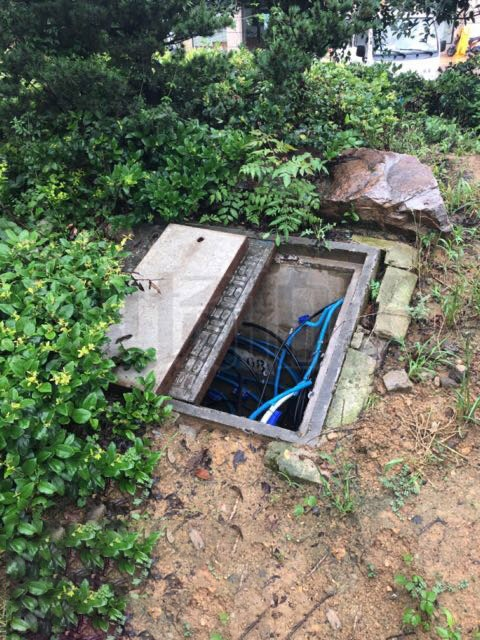uncovered: (99, 224, 386, 445)
